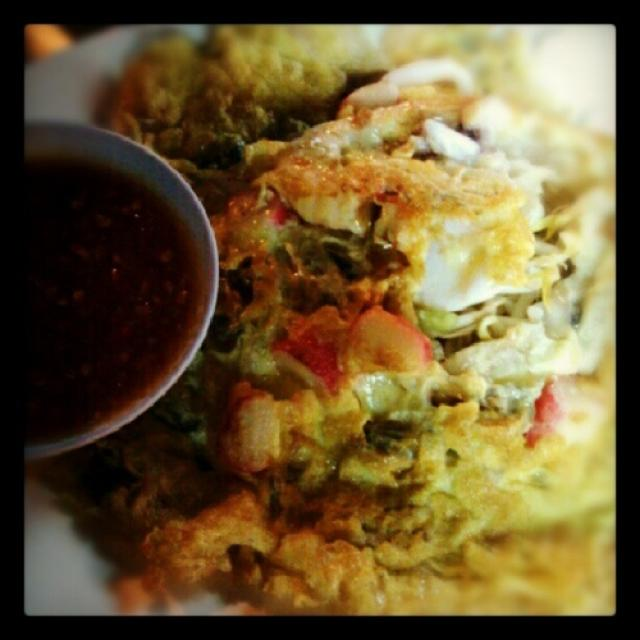炸货点心: (19, 18, 620, 621)
蛋糕甜品: (19, 18, 620, 621)
